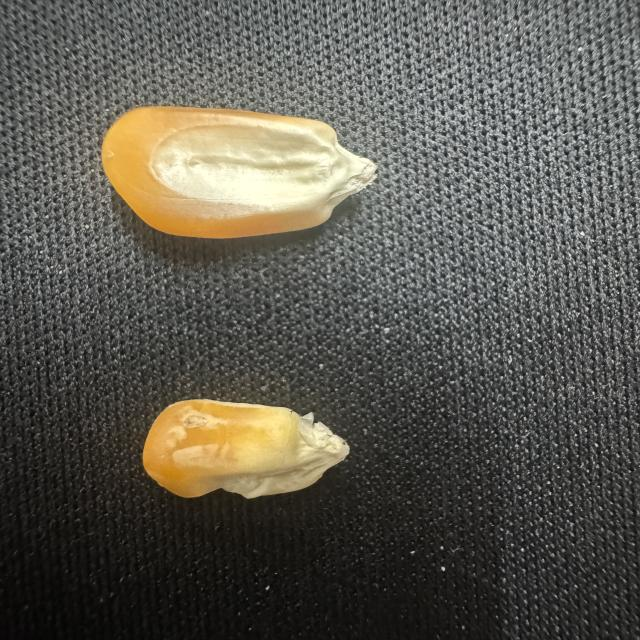Bad-Seed: (136, 391, 363, 503)
Good-Seed: (96, 90, 394, 242)
